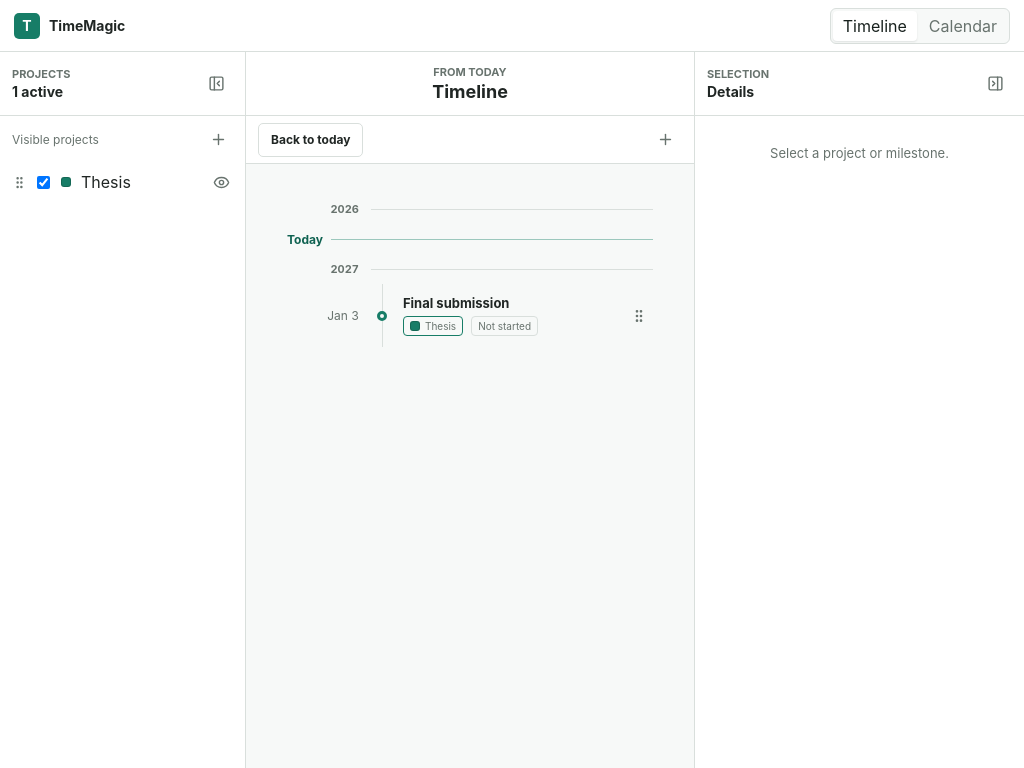
Scenario: App › opens Calendar on the selected Timeline milestone month
Click the button with aria-label "Open Final submission" at coordinates (509, 316), box [393,287,625,344]
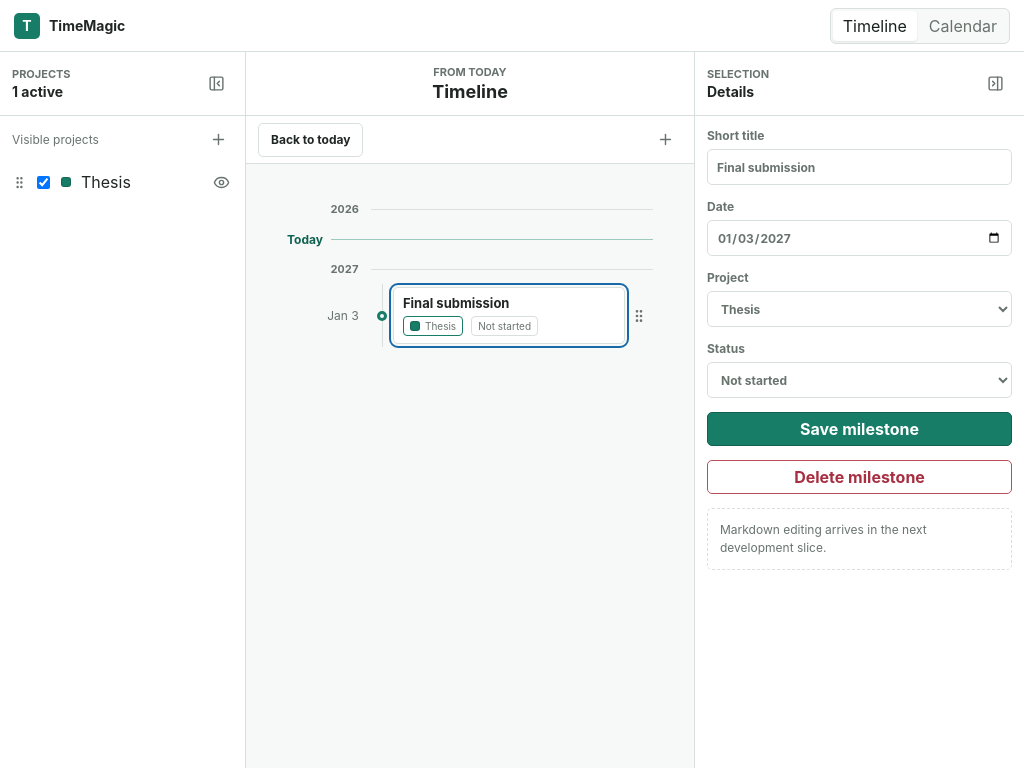
Expected: the field labelled "Short title" holds "Final submission", [707,149,1012,185]
Click the button "Calendar" at coordinates (963, 26), box [919,10,1007,40]
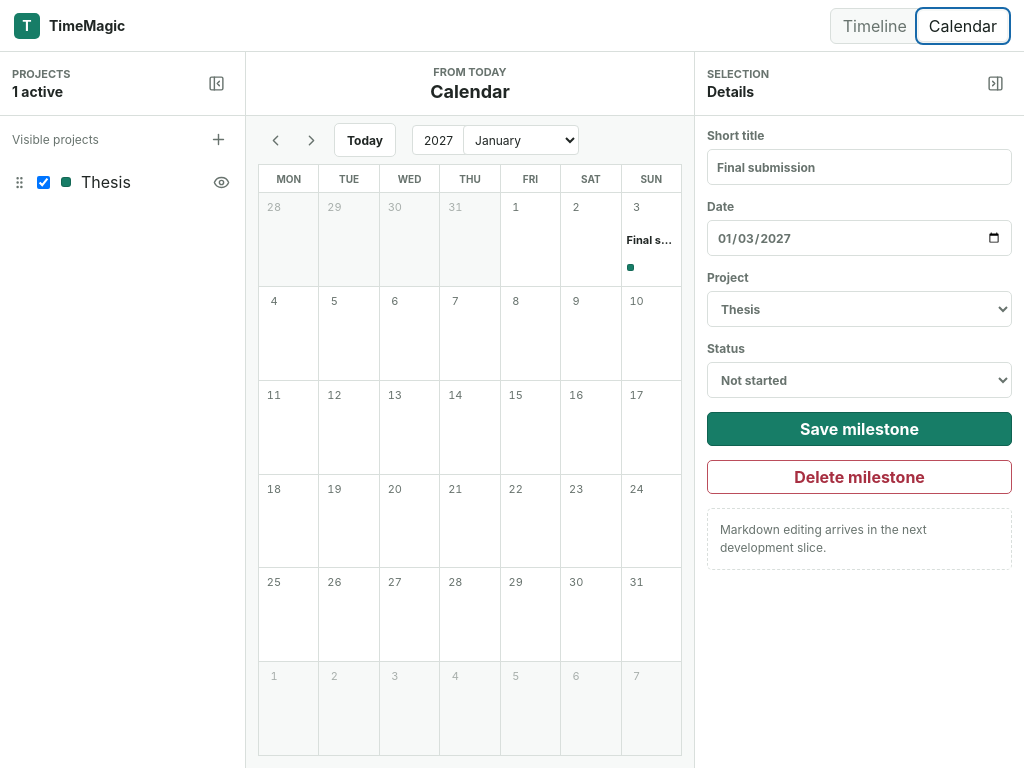
Expected: the dropdown named "Year" shows "2027", [412,125,496,155]
Expected: the dropdown named "Month" shows "January", [463,125,579,155]
Expected: the table named "January 2027" is shown, [258,164,682,756]
